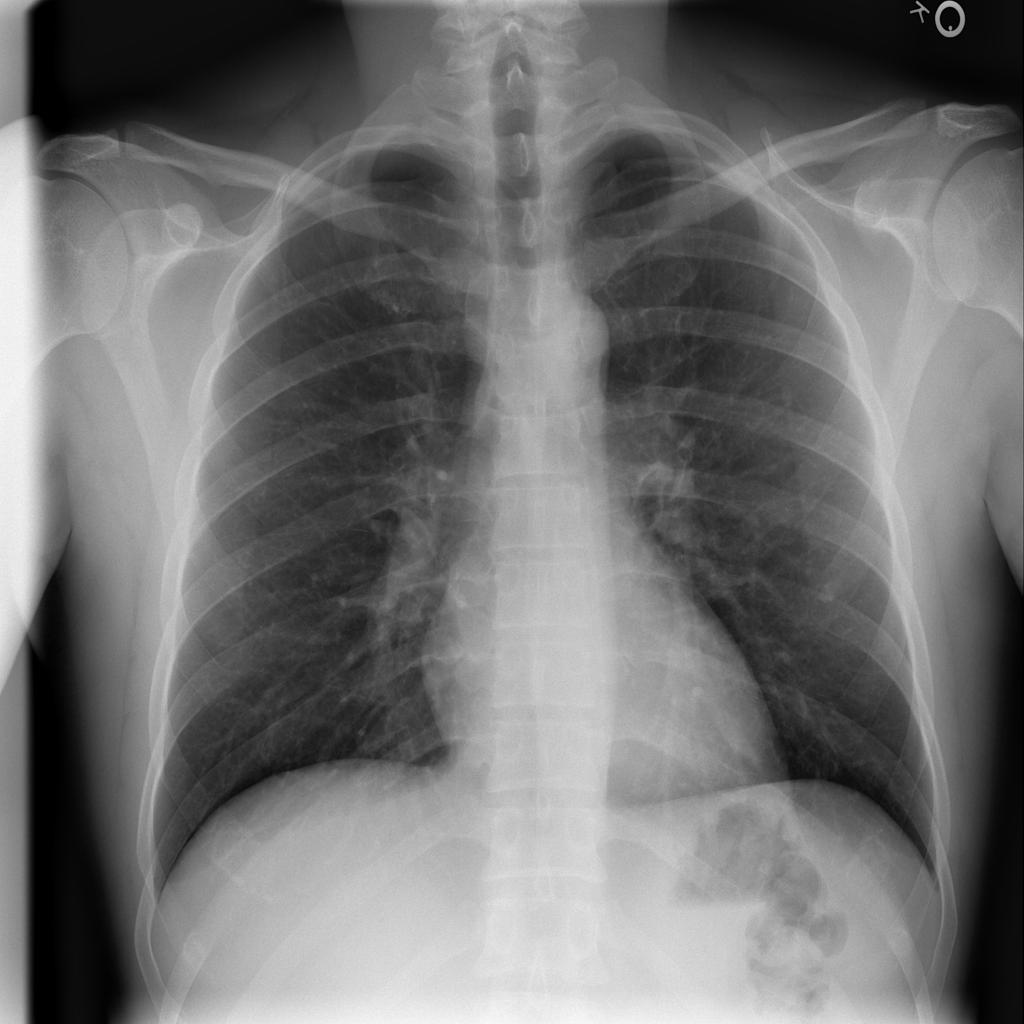nodule: (795, 554, 864, 626)
